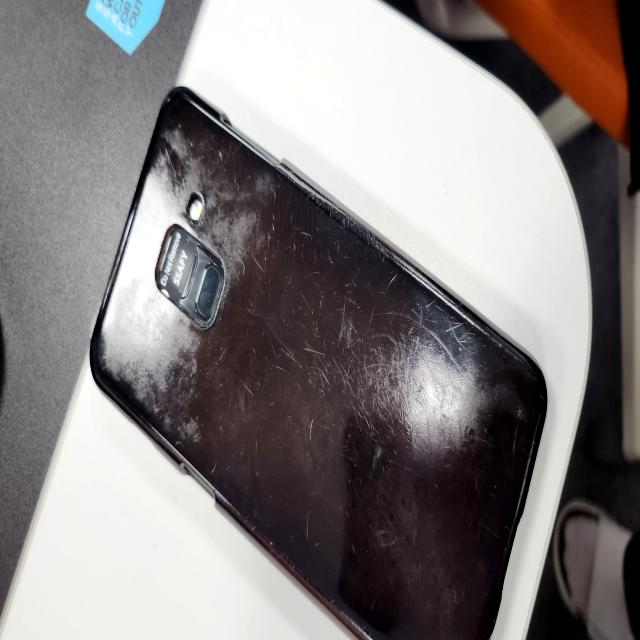phone: (89, 85, 549, 640)
sticker: (157, 223, 199, 302)
